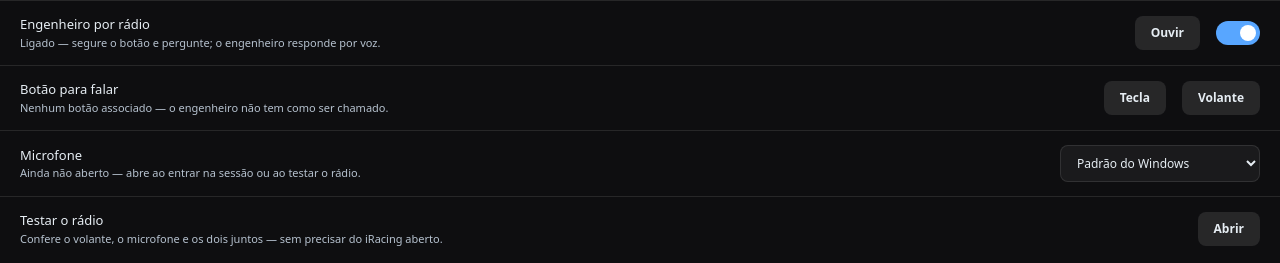
bloco do engenheiro › Escape desiste da captura sem associar nada
The image size is (1280, 263).
Click the button "Tecla". click: {"x": 1135, "y": 98}
box: [1104,81,1166,115]
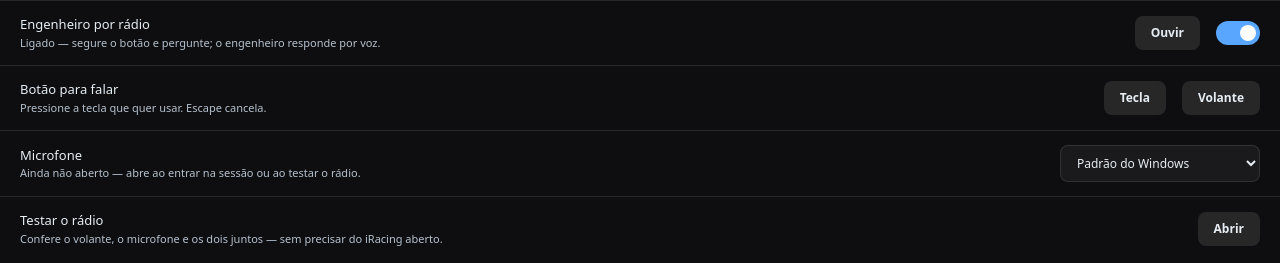
Press Escape
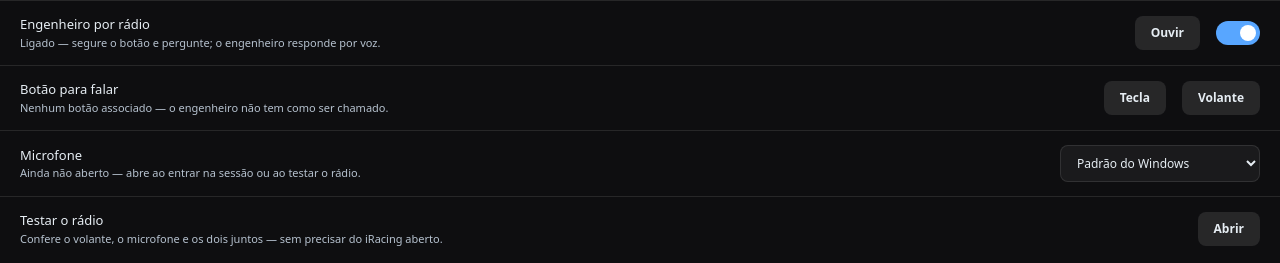
Check: the text "Nenhum botão associado" is shown, box [20,100,388,114]
